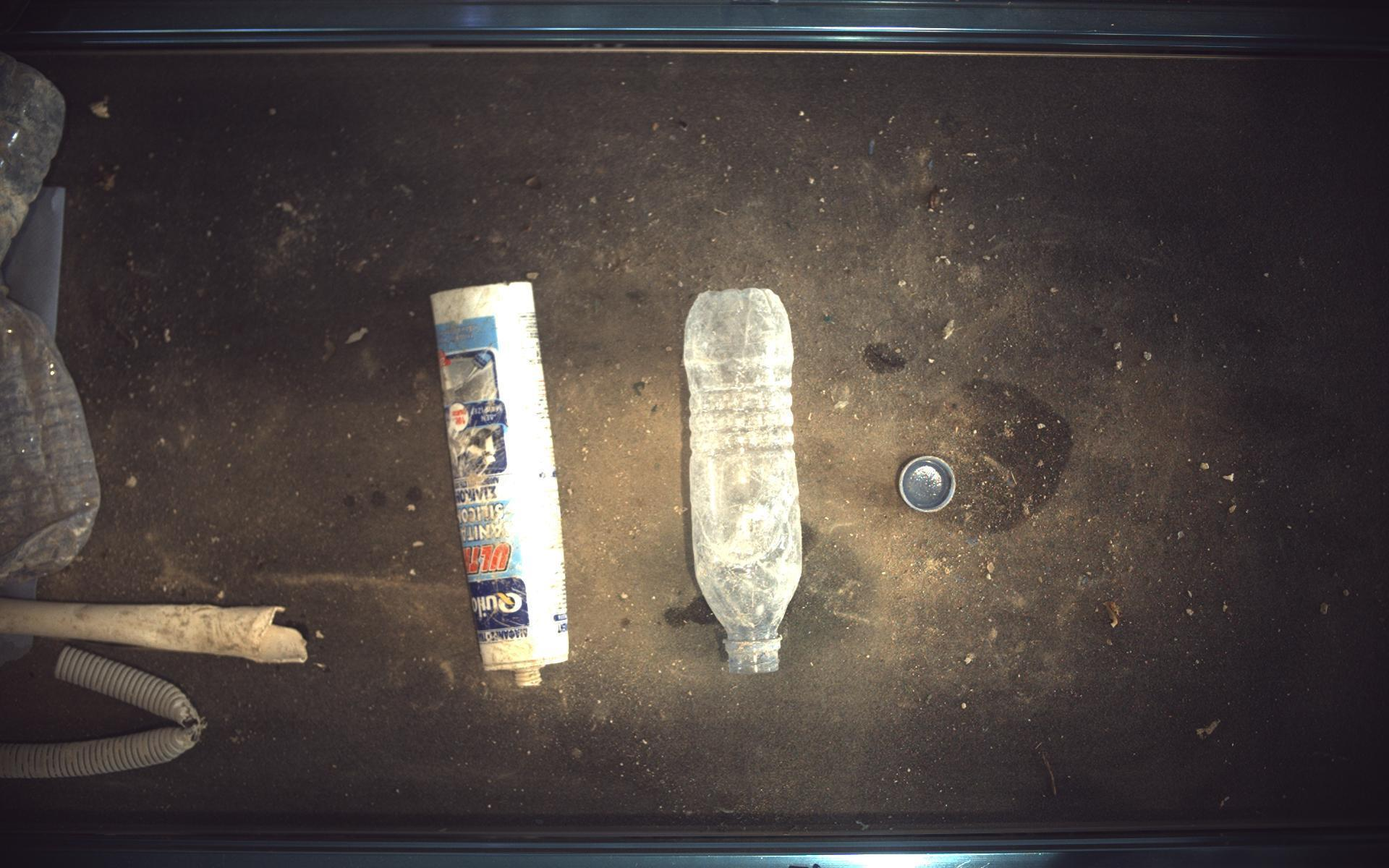general_w: (684, 287, 804, 674), (899, 455, 959, 514)
plastic: (431, 281, 569, 687)
